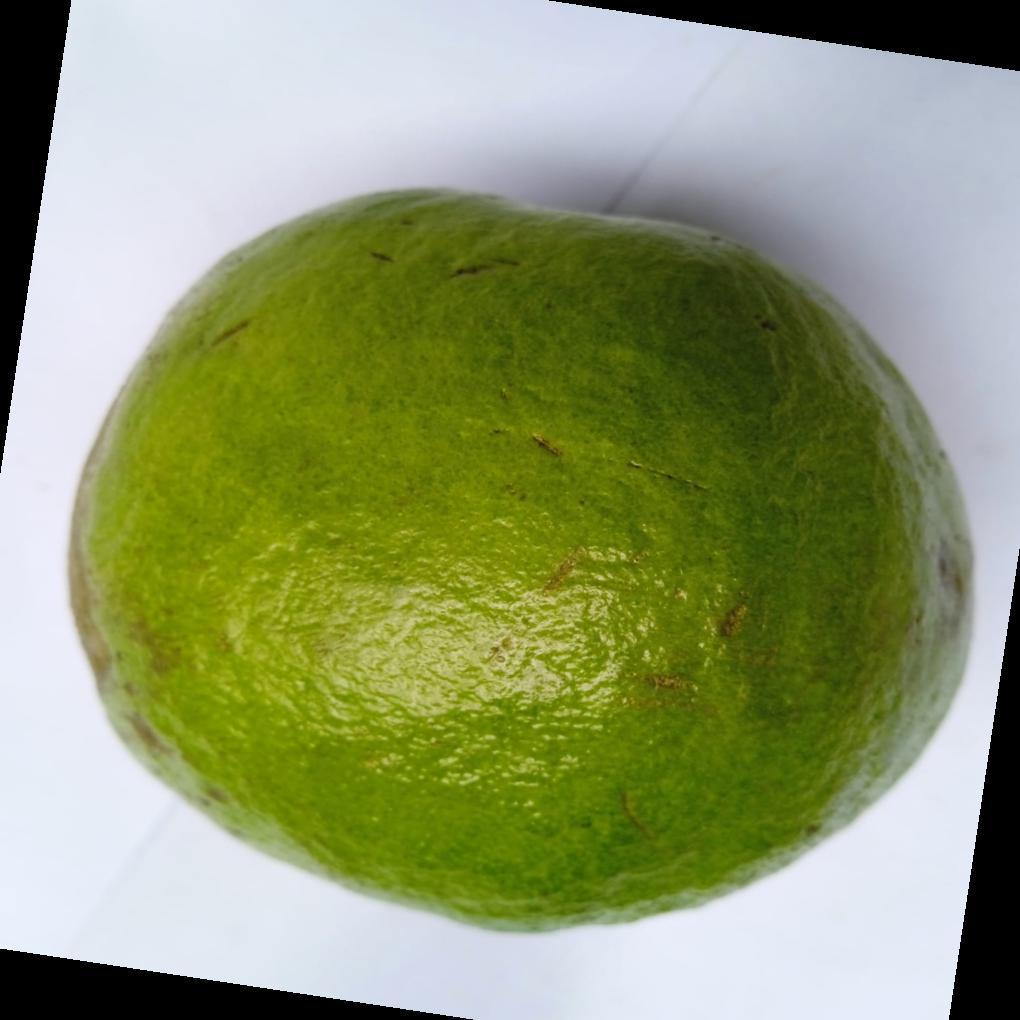FreshGuava: (66, 189, 975, 938)
